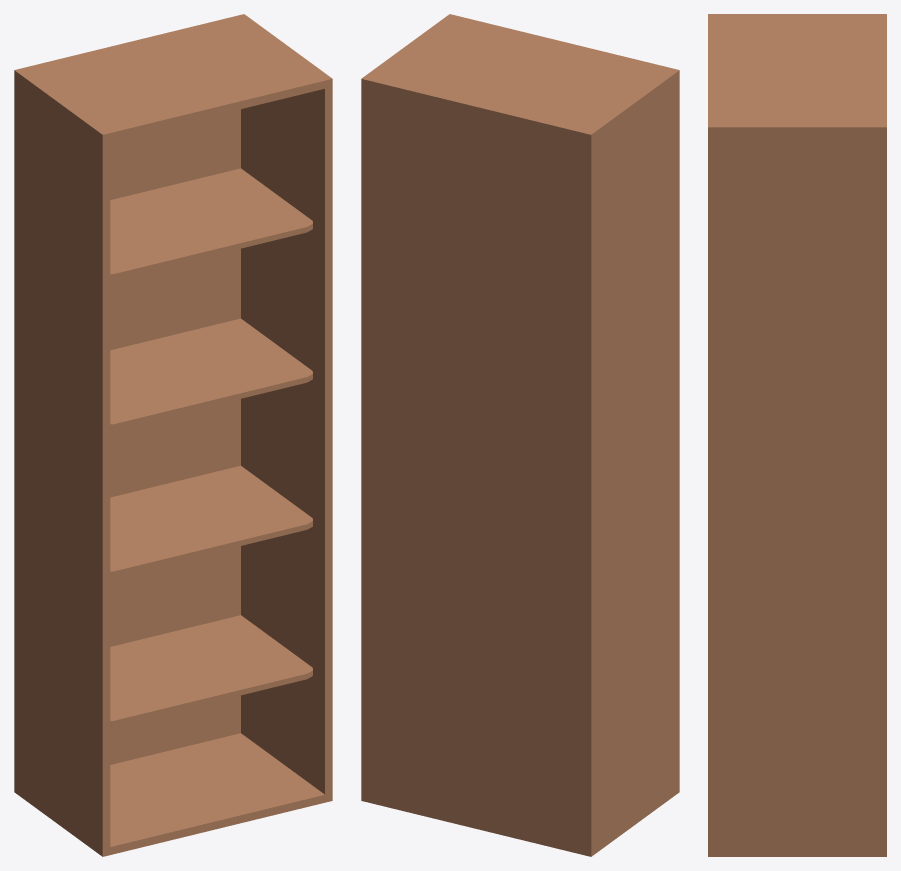
Rendered from Mueble 1.fbx.
The picture shows the model from 3 angles, left to right: view 1: azimuth 30°, elevation 25°; view 2: azimuth 150°, elevation 25°; view 3: azimuth 270°, elevation 25°; orthographic projection.
Parts seen in each view (by area): view 1: Mueble_1; view 2: Mueble_1; view 3: Mueble_1.
Boxes of the visible parts, <box> form: Mueble_1: <box>14,14,332,856</box>; Mueble_1: <box>361,14,679,856</box>; Mueble_1: <box>708,14,886,856</box>.
Bounding box in the file's own units: 0.6 × 1.8 × 0.4.
